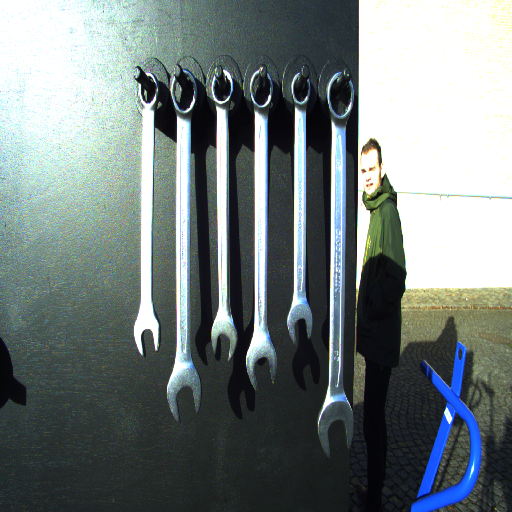bottom: (315, 402, 355, 459), (165, 368, 204, 423), (245, 338, 279, 392), (208, 314, 239, 363), (133, 313, 161, 356), (285, 303, 314, 344)
top: (324, 69, 356, 121), (168, 69, 201, 116), (248, 67, 275, 109), (210, 68, 236, 108), (135, 71, 163, 105), (289, 70, 313, 108)
